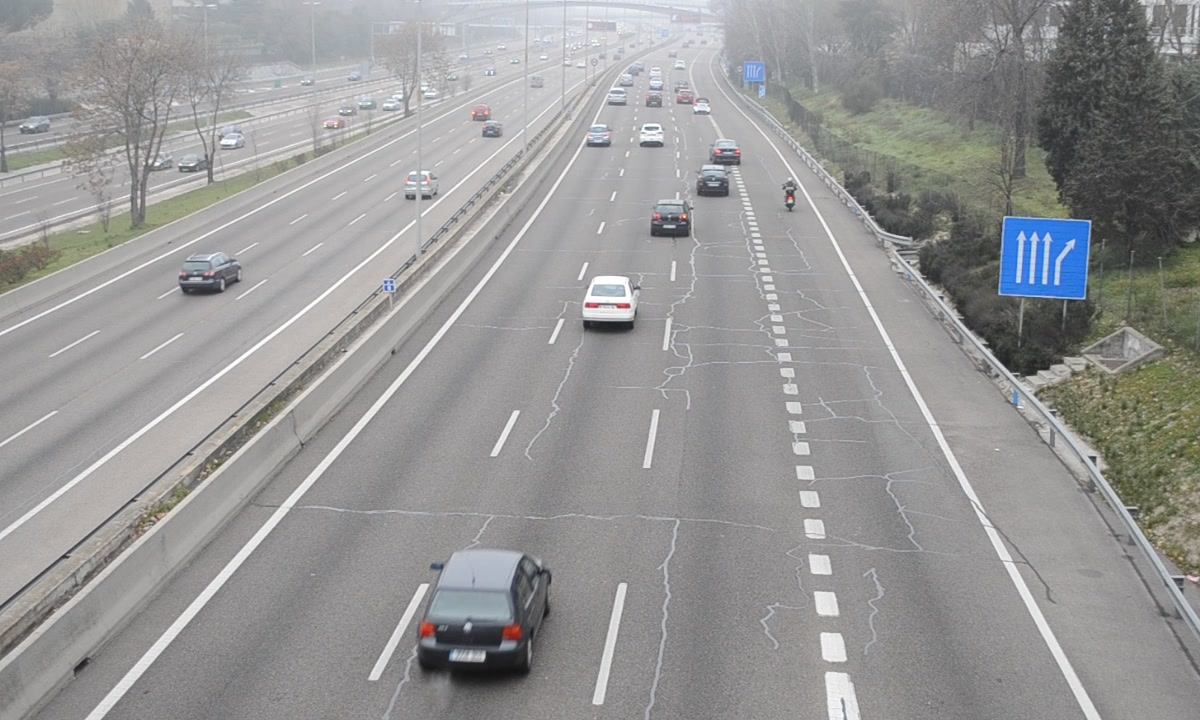car: (418, 550, 550, 673), (584, 275, 639, 324), (651, 199, 692, 237), (697, 165, 730, 197), (711, 139, 744, 163), (639, 122, 666, 146), (586, 124, 611, 147)
motorcycle: (783, 177, 801, 211)
